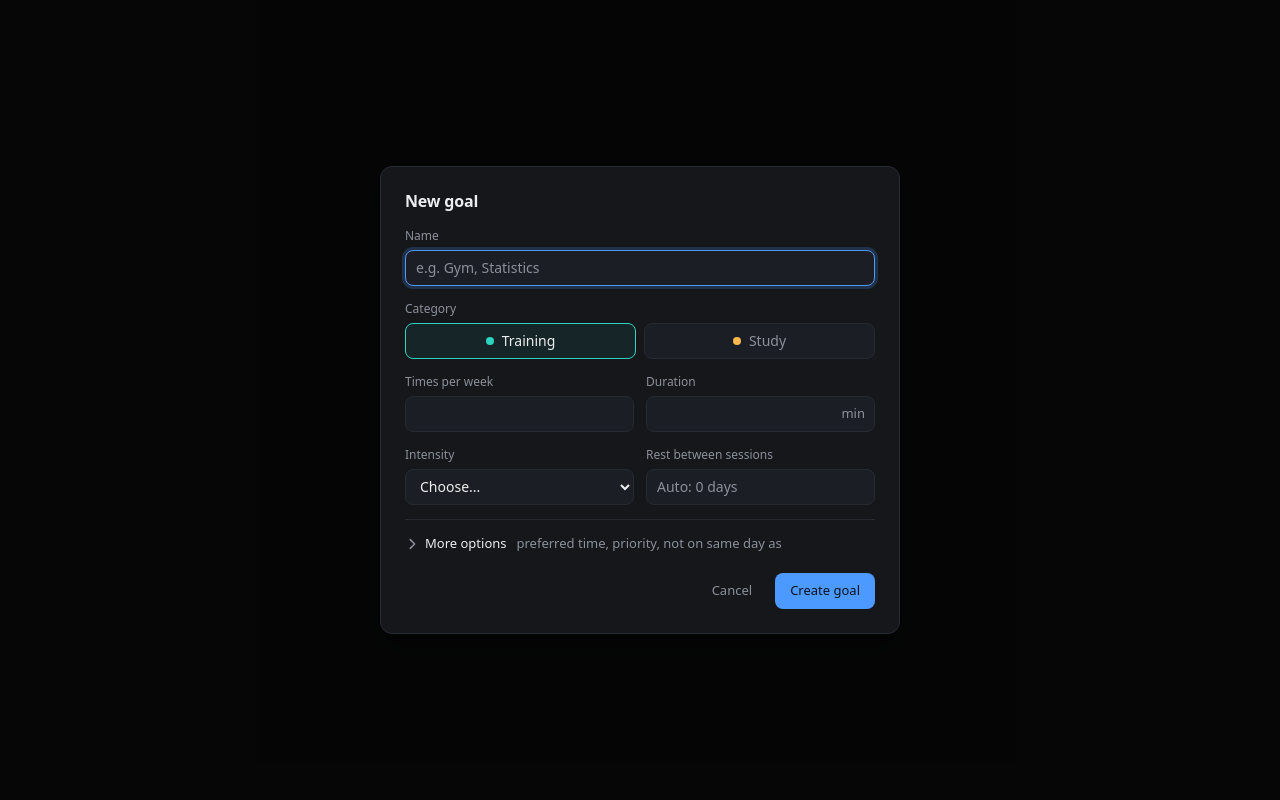
it: GoalDialog "Not on the same day as" › works with the keyboard and closes on Escape without closing the dialog
The image size is (1280, 800).
Click the button "More options preferred time, priority, not on same day as" at (640, 544), box [405, 532, 875, 555]
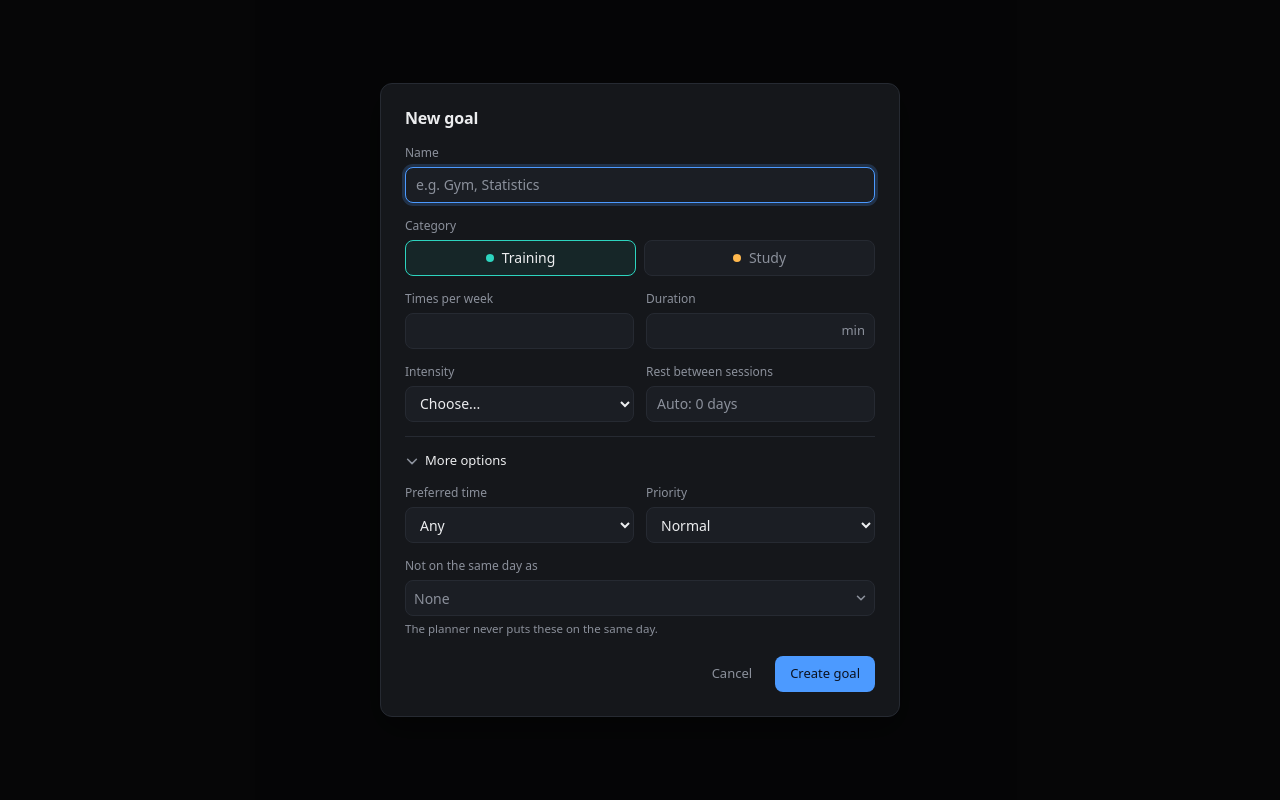
Press ArrowDown in the button named "Not on the same day as", box [414, 585, 868, 611]
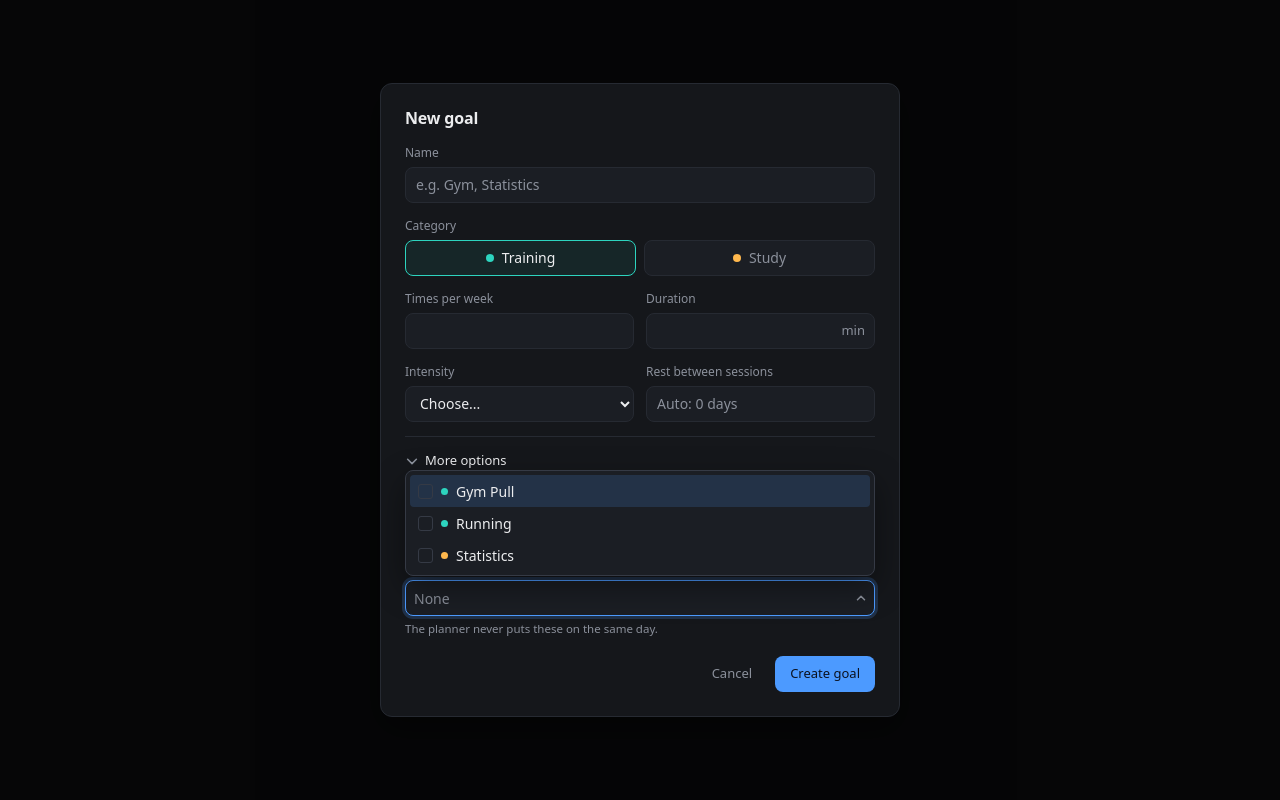
Press ArrowDown in the list, box [405, 470, 875, 576]
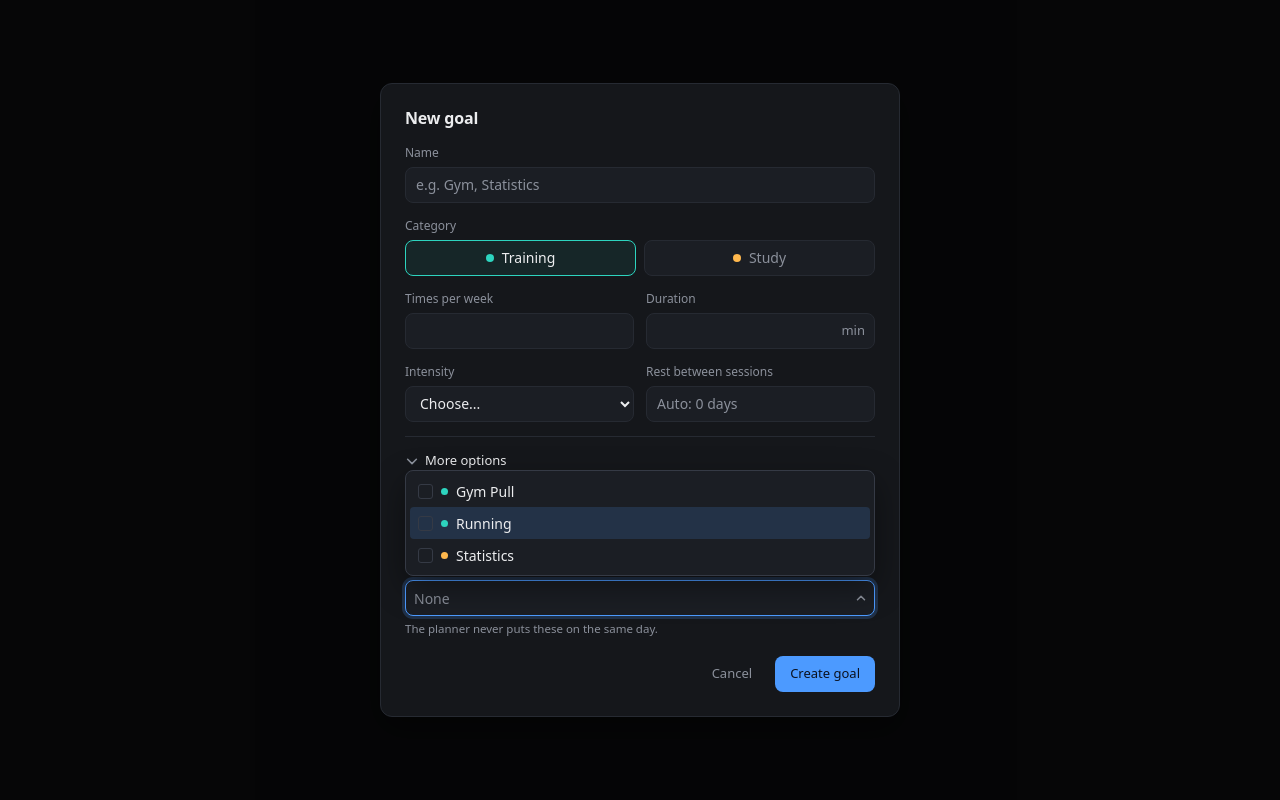
Press Space in the list, box [405, 470, 875, 576]
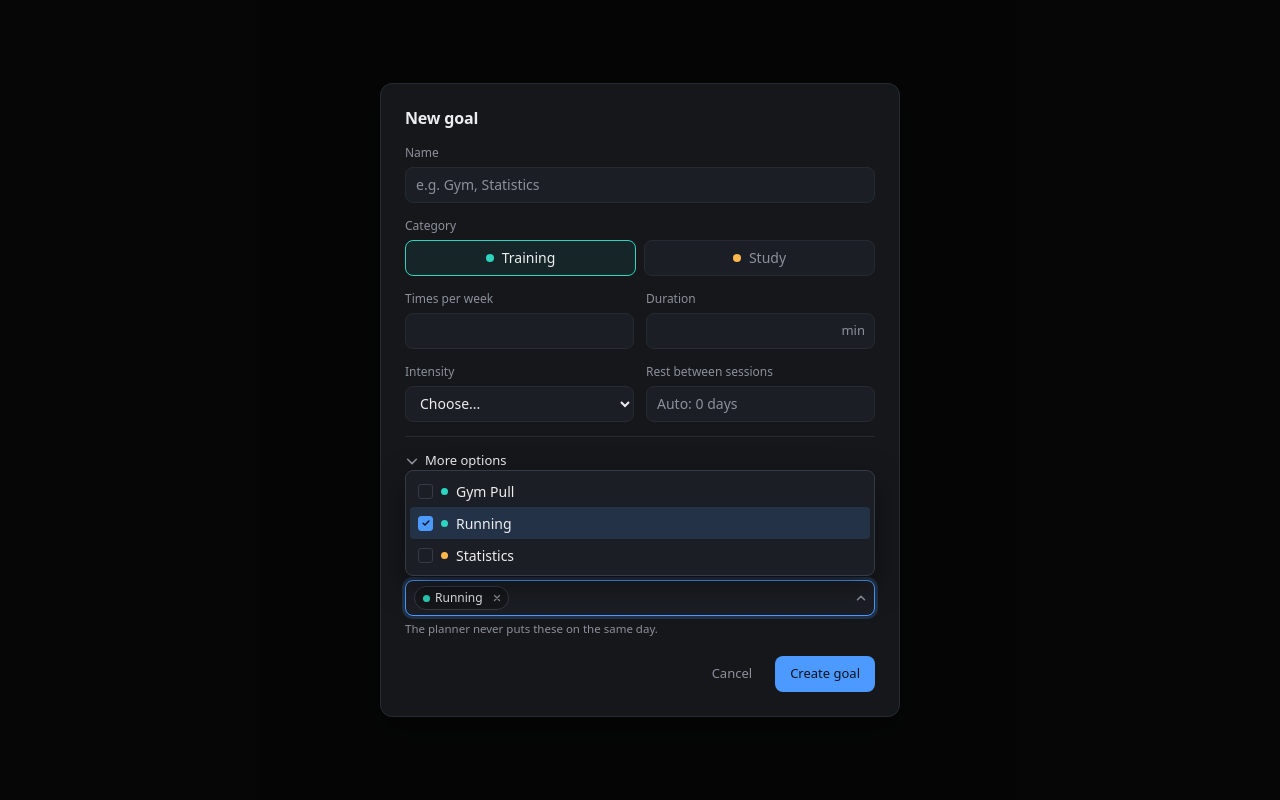
Now the option "Running" is selected, box [410, 507, 870, 539]
Press Escape in the list, box [405, 470, 875, 576]
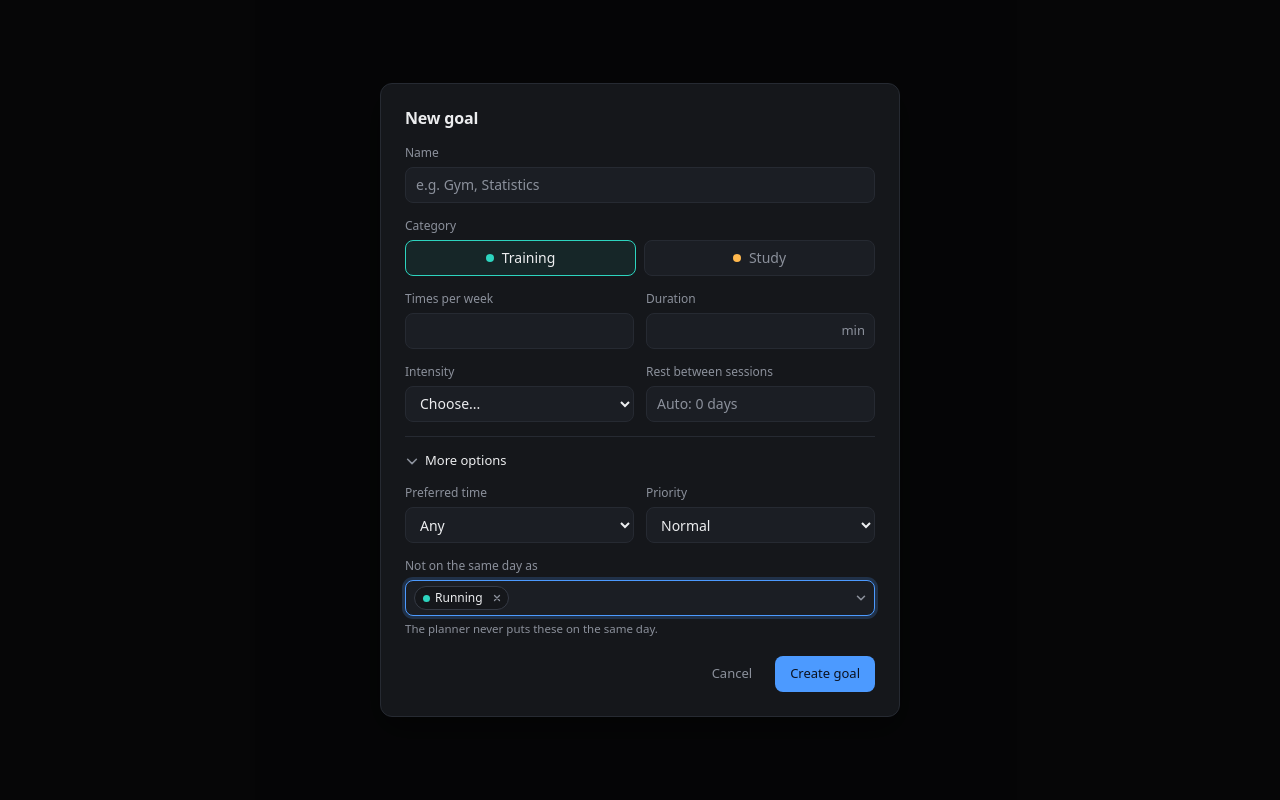
Now the list is gone
